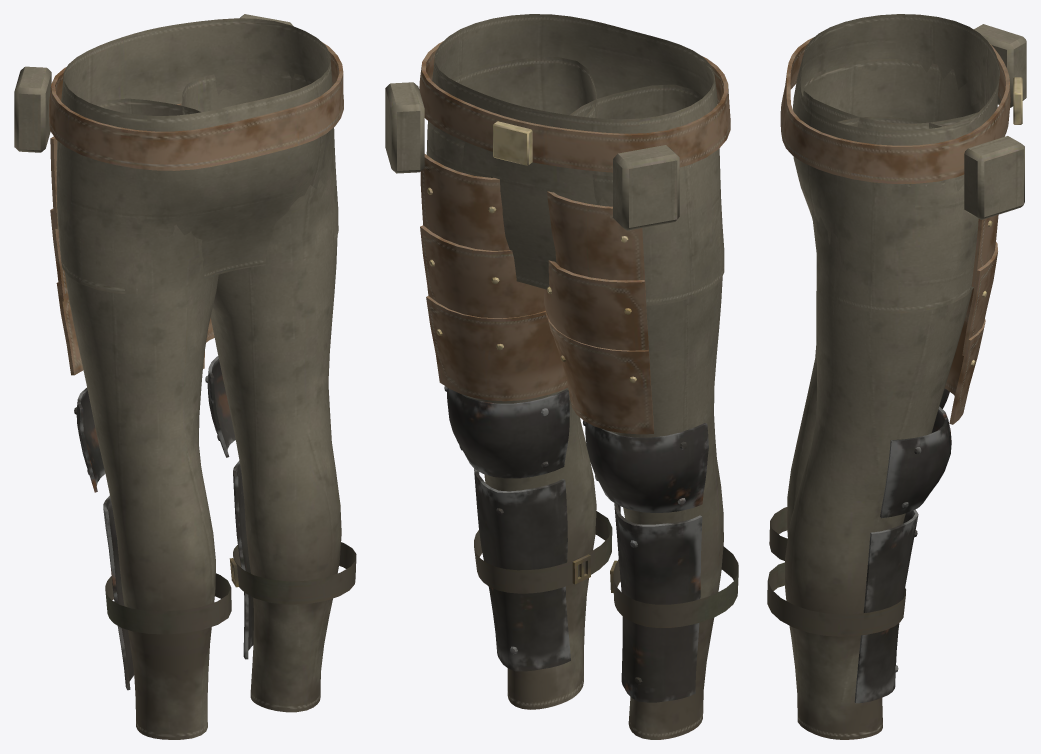
Rendered from armor_legs_display.glb.
3 views of the same model, side by side, from view 1: azimuth 30°, elevation 25°; view 2: azimuth 150°, elevation 25°; view 3: azimuth 270°, elevation 25° (orthographic). The views are drawn at different scales.
Parts seen in each view (by area): view 1: armor_legs; view 2: armor_legs; view 3: armor_legs.
Part boxes in pixels (left/top/right/bottom): armor_legs: left=14, top=14, right=356, bottom=739; armor_legs: left=385, top=14, right=738, bottom=739; armor_legs: left=767, top=14, right=1026, bottom=739.
Bounding box in the file's own units: 0.4054 × 0.877 × 0.3294.
Materials: 1 (1 with a texture image).
